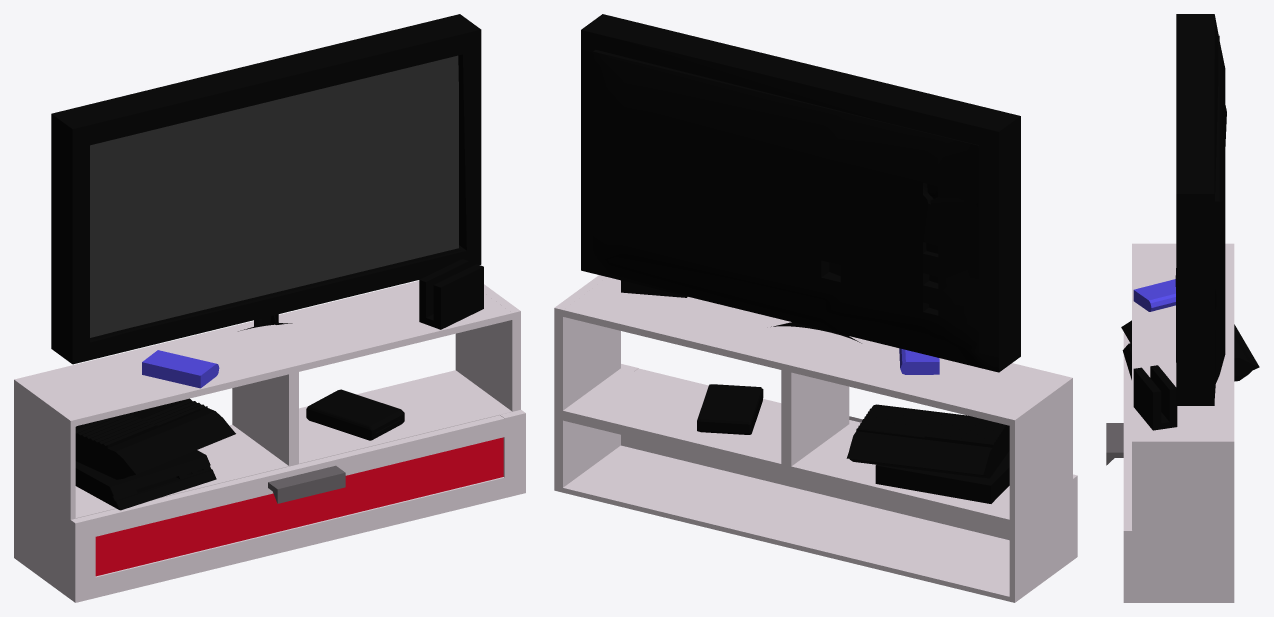
The model's file is tv_and_consoles.glb.
The picture shows the model from 3 angles, left to right: view 1: azimuth 30°, elevation 25°; view 2: azimuth 150°, elevation 25°; view 3: azimuth 270°, elevation 25°; orthographic projection. The views are drawn at different scales.
Parts seen in each view (by area): view 1: bildschirm_4, schrank_0, object 4, Schubladenrahmen_1, schublade_2, PS3_7, PS4_8, Switch halterung_9, WiiU_5, videospielverpackung_10, griff_6; view 2: object 4, schrank_0, PS3_7, Schubladenrahmen_1, PS4_8, WiiU_5, videospielverpackung_10; view 3: schrank_0, object 4, Switch halterung_9, Schubladenrahmen_1, videospielverpackung_10, PS3_7, griff_6.
Part boxes in pixels (x1,y1,x2,y2): bildschirm_4: (90,55,458,337); schrank_0: (14,281,520,598); object 4: (51,14,481,364); Schubladenrahmen_1: (70,410,525,602); schublade_2: (95,437,503,576); PS3_7: (75,398,235,479); PS4_8: (75,450,216,510); Switch halterung_9: (419,259,483,329); WiiU_5: (306,389,404,440); videospielverpackung_10: (142,350,219,388); griff_6: (268,465,345,503); object 4: (581,14,1020,372); schrank_0: (554,275,1072,602); PS3_7: (846,404,1009,478); Schubladenrahmen_1: (621,364,1077,559); PS4_8: (875,451,1009,503); WiiU_5: (697,384,763,434); videospielverpackung_10: (899,348,939,374); schrank_0: (1132,243,1234,602); object 4: (1175,14,1226,405); Switch halterung_9: (1133,365,1177,430); Schubladenrahmen_1: (1123,333,1132,602); videospielverpackung_10: (1133,279,1175,311); PS3_7: (1121,320,1259,381); griff_6: (1106,423,1123,465).
Size of the model in its own units: 34.37 by 32.5 by 11.25.
